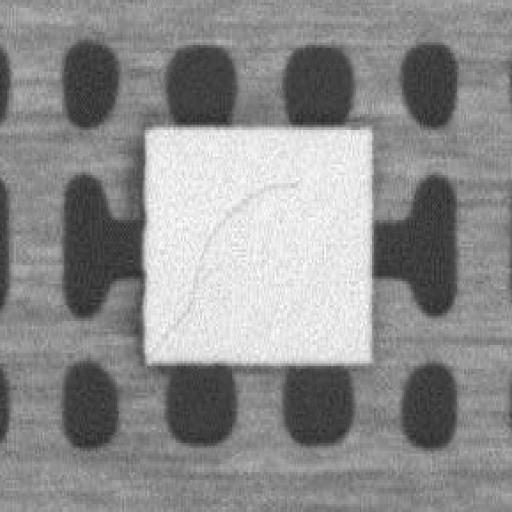DIE_CRACK: (144, 178, 298, 358)
